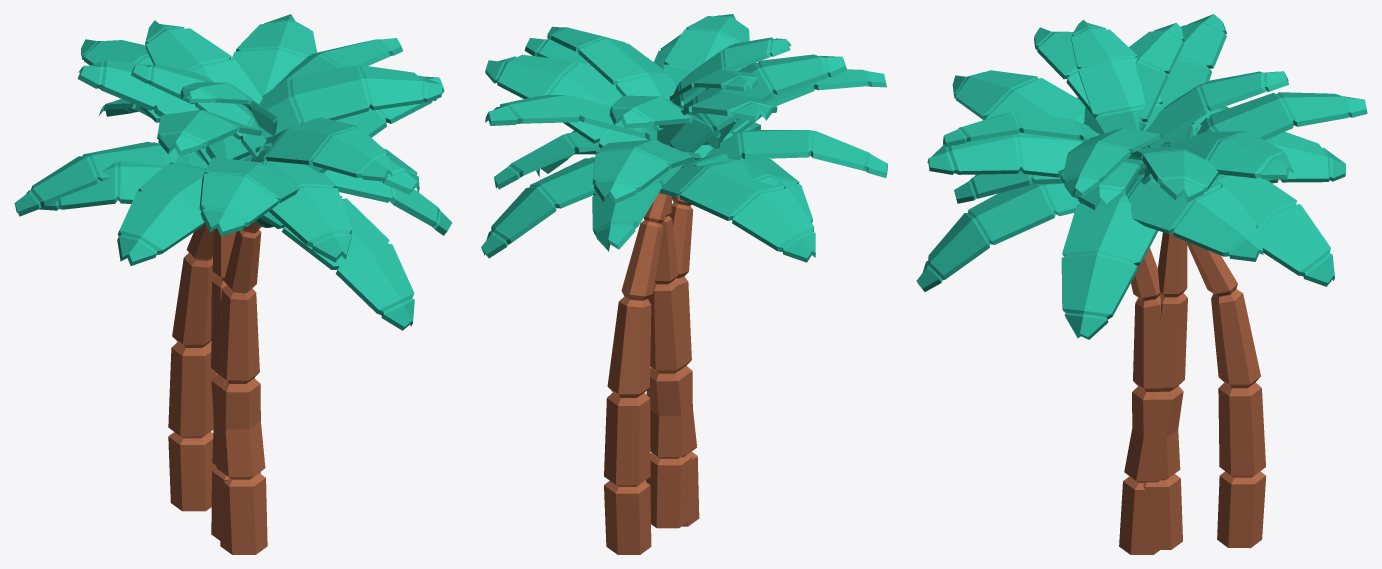
File: pohon.fbx
3 renders of one model, left to right at view 1: azimuth 30°, elevation 25°; view 2: azimuth 150°, elevation 25°; view 3: azimuth 270°, elevation 25°, orthographic. The views are drawn at different scales.
Visible parts, largest first — view 1: Circle.004, Circle.003, Circle.002; view 2: Circle.004, Circle.002, Circle.003; view 3: Circle.004, Circle.003, Circle.002.
Part boxes in pixels (x1,y1,x2,y2): Circle.004: (77,14,452,511); Circle.003: (39,20,444,540); Circle.002: (14,38,402,554); Circle.004: (485,15,887,554); Circle.002: (481,54,846,526); Circle.003: (494,14,886,528); Circle.004: (927,14,1345,548); Circle.003: (916,23,1288,549); Circle.002: (954,27,1367,554).
Size of the model in its own units: 670 by 879 by 738.
